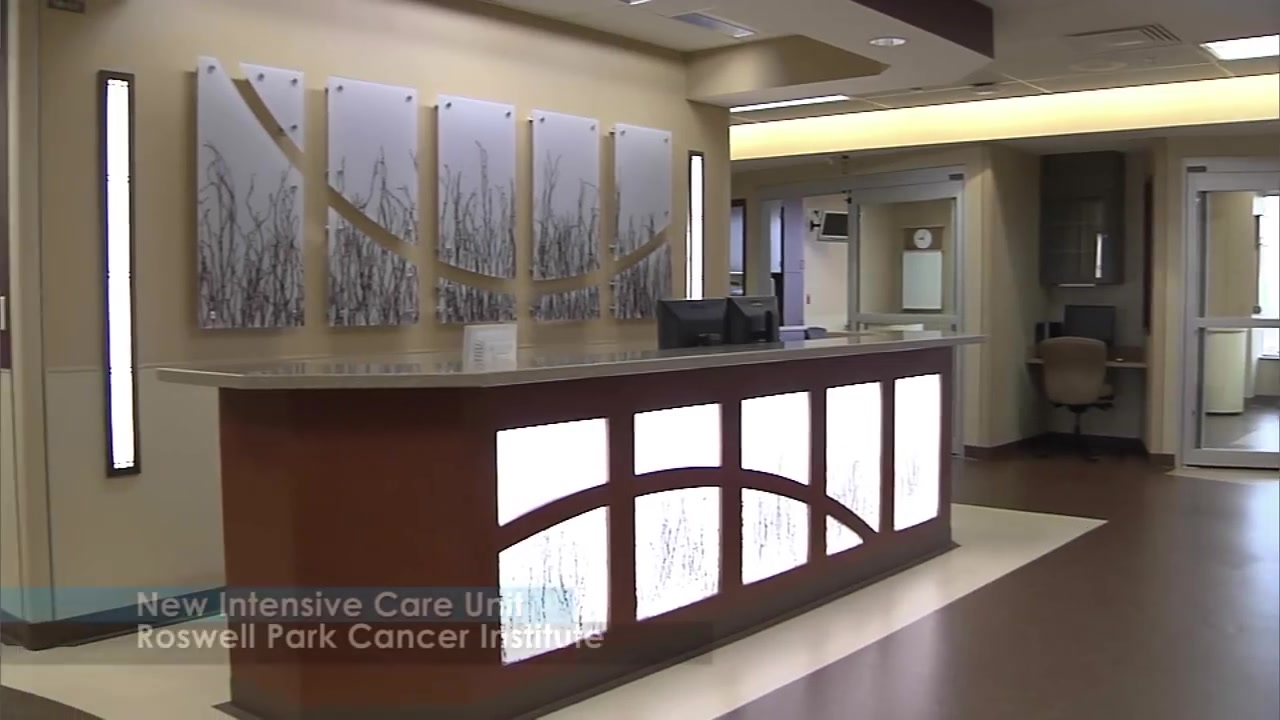TV: (816, 211, 864, 242)
chair: (1040, 337, 1114, 465)
computer: (655, 298, 729, 348), (463, 323, 521, 371), (728, 295, 781, 343), (1063, 303, 1118, 346)
counter: (172, 348, 991, 704)
countertop: (158, 329, 988, 392), (1029, 353, 1146, 367)
handle: (1093, 232, 1104, 278)
mouse: (1115, 355, 1126, 364)
